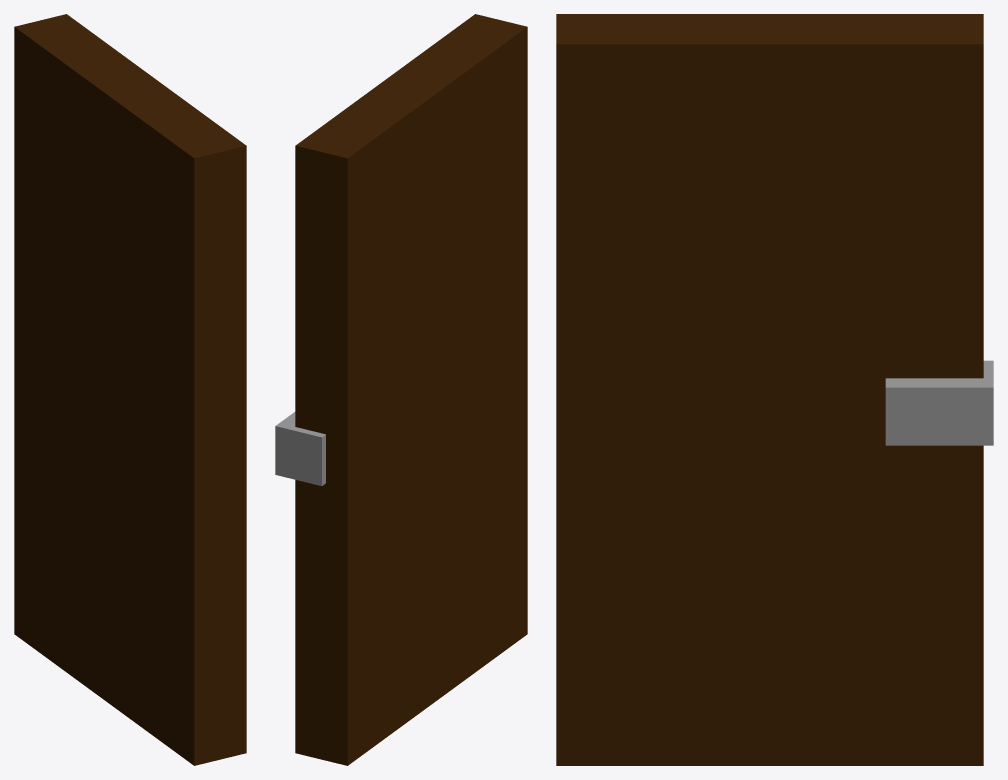
The picture shows the model from 3 angles, left to right: view 1: azimuth 30°, elevation 25°; view 2: azimuth 150°, elevation 25°; view 3: azimuth 270°, elevation 25°; orthographic projection. The views are drawn at different scales.
Visible parts, largest first — view 1: 立方体; view 2: 立方体; view 3: 立方体.
Boxes of the visible parts, x1=… form: 立方体: x1=14, y1=14, x2=246, y2=765; 立方体: x1=275, y1=14, x2=527, y2=765; 立方体: x1=556, y1=14, x2=993, y2=765.
Size of the model in its own units: 43.76 by 373 by 205.
